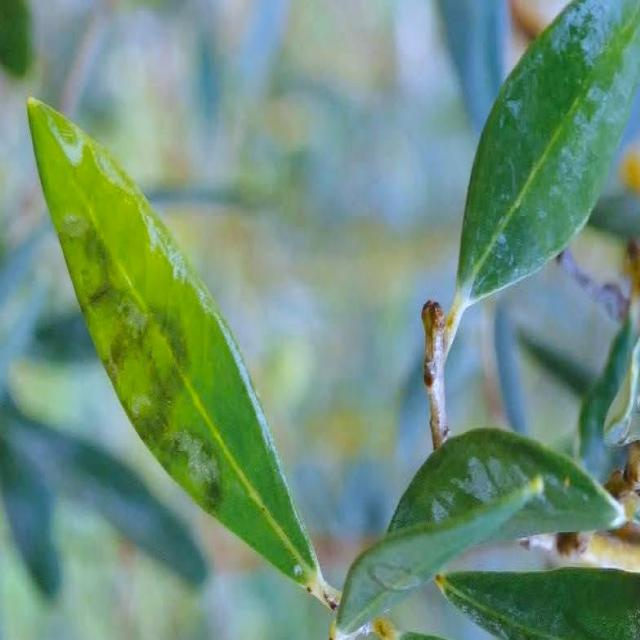Peacock Eye: (28, 101, 336, 610)
